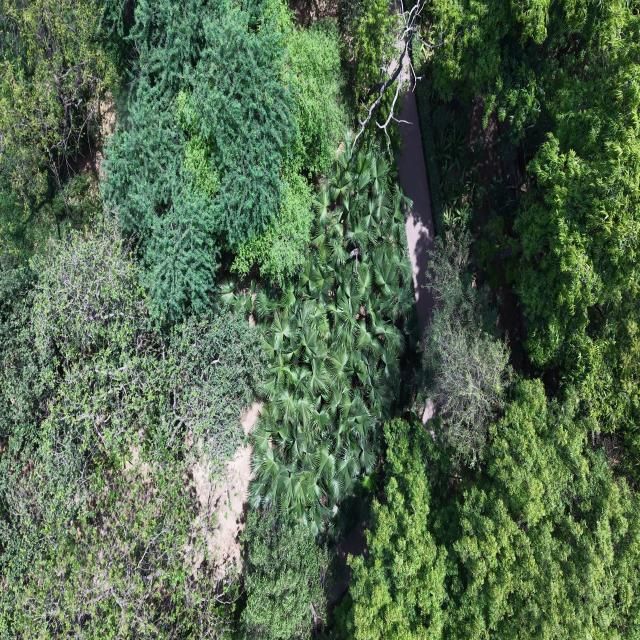DRY_AREA: (396, 84, 434, 330), (397, 87, 434, 328), (397, 88, 434, 327), (193, 445, 251, 579)
VEGETATION_TREE: (0, 0, 639, 639), (0, 3, 349, 638), (335, 3, 639, 637), (336, 2, 639, 637), (336, 3, 639, 637), (0, 222, 263, 637), (424, 0, 639, 464), (336, 381, 639, 639), (103, 0, 346, 321), (251, 137, 414, 532), (103, 0, 297, 320), (515, 5, 639, 437), (515, 98, 639, 438), (232, 13, 347, 287), (0, 0, 119, 262), (422, 0, 638, 139), (0, 0, 119, 223), (336, 419, 446, 639), (420, 233, 510, 466), (166, 313, 265, 470), (412, 42, 488, 241), (340, 0, 426, 156), (416, 80, 488, 241), (242, 510, 331, 639), (286, 21, 349, 177), (0, 172, 102, 267), (232, 174, 313, 285), (342, 0, 395, 106), (415, 79, 445, 237)
